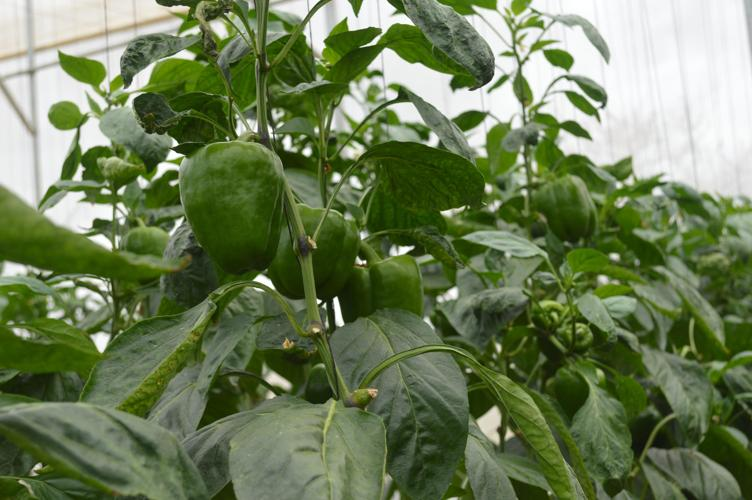BellPepper: (166, 143, 289, 275), (269, 203, 360, 305), (340, 253, 434, 317), (528, 170, 594, 236), (109, 220, 178, 264)
